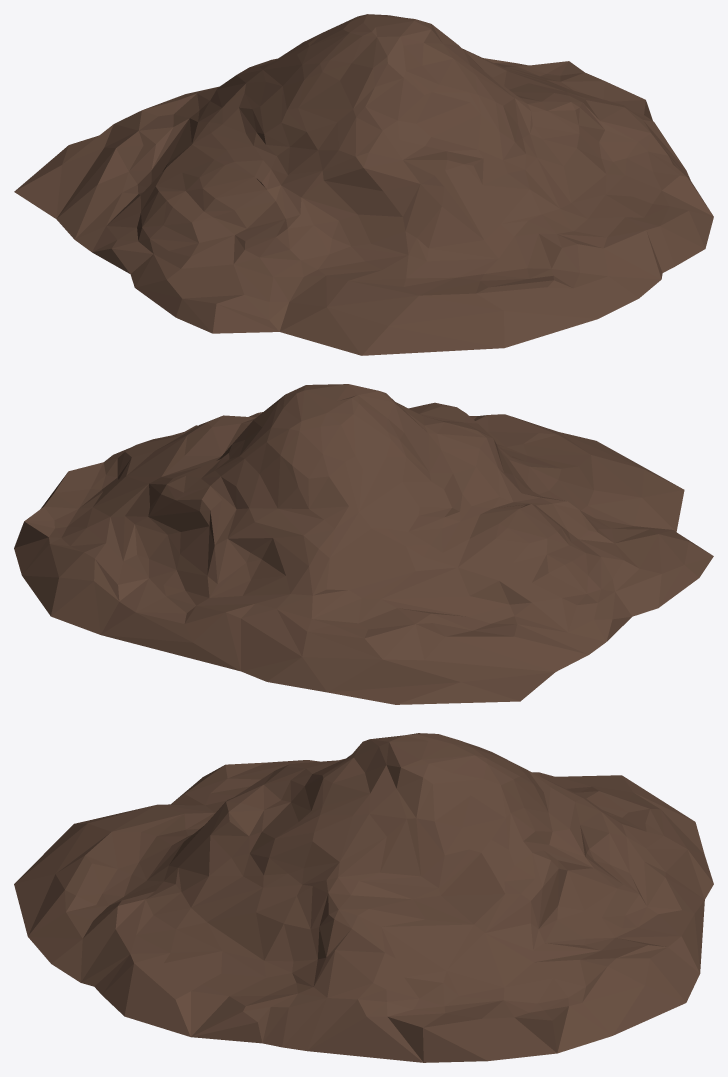
The model's file is synty-terrain-mountain-03.gltf.
3 views of the same model, one above another, from view 1: azimuth 30°, elevation 25°; view 2: azimuth 150°, elevation 25°; view 3: azimuth 270°, elevation 25° (orthographic). The views are drawn at different scales.
Visible parts, largest first — view 1: SM_Terrain_Mountain_03; view 2: SM_Terrain_Mountain_03; view 3: SM_Terrain_Mountain_03.
Boxes of the visible parts, <box> form: SM_Terrain_Mountain_03: <box>14,14,713,355</box>; SM_Terrain_Mountain_03: <box>14,384,713,704</box>; SM_Terrain_Mountain_03: <box>14,733,713,1062</box>.
Bounding box in the file's own units: 39.22 × 11.23 × 39.77.
Materials: 1 (1 with a texture image).
